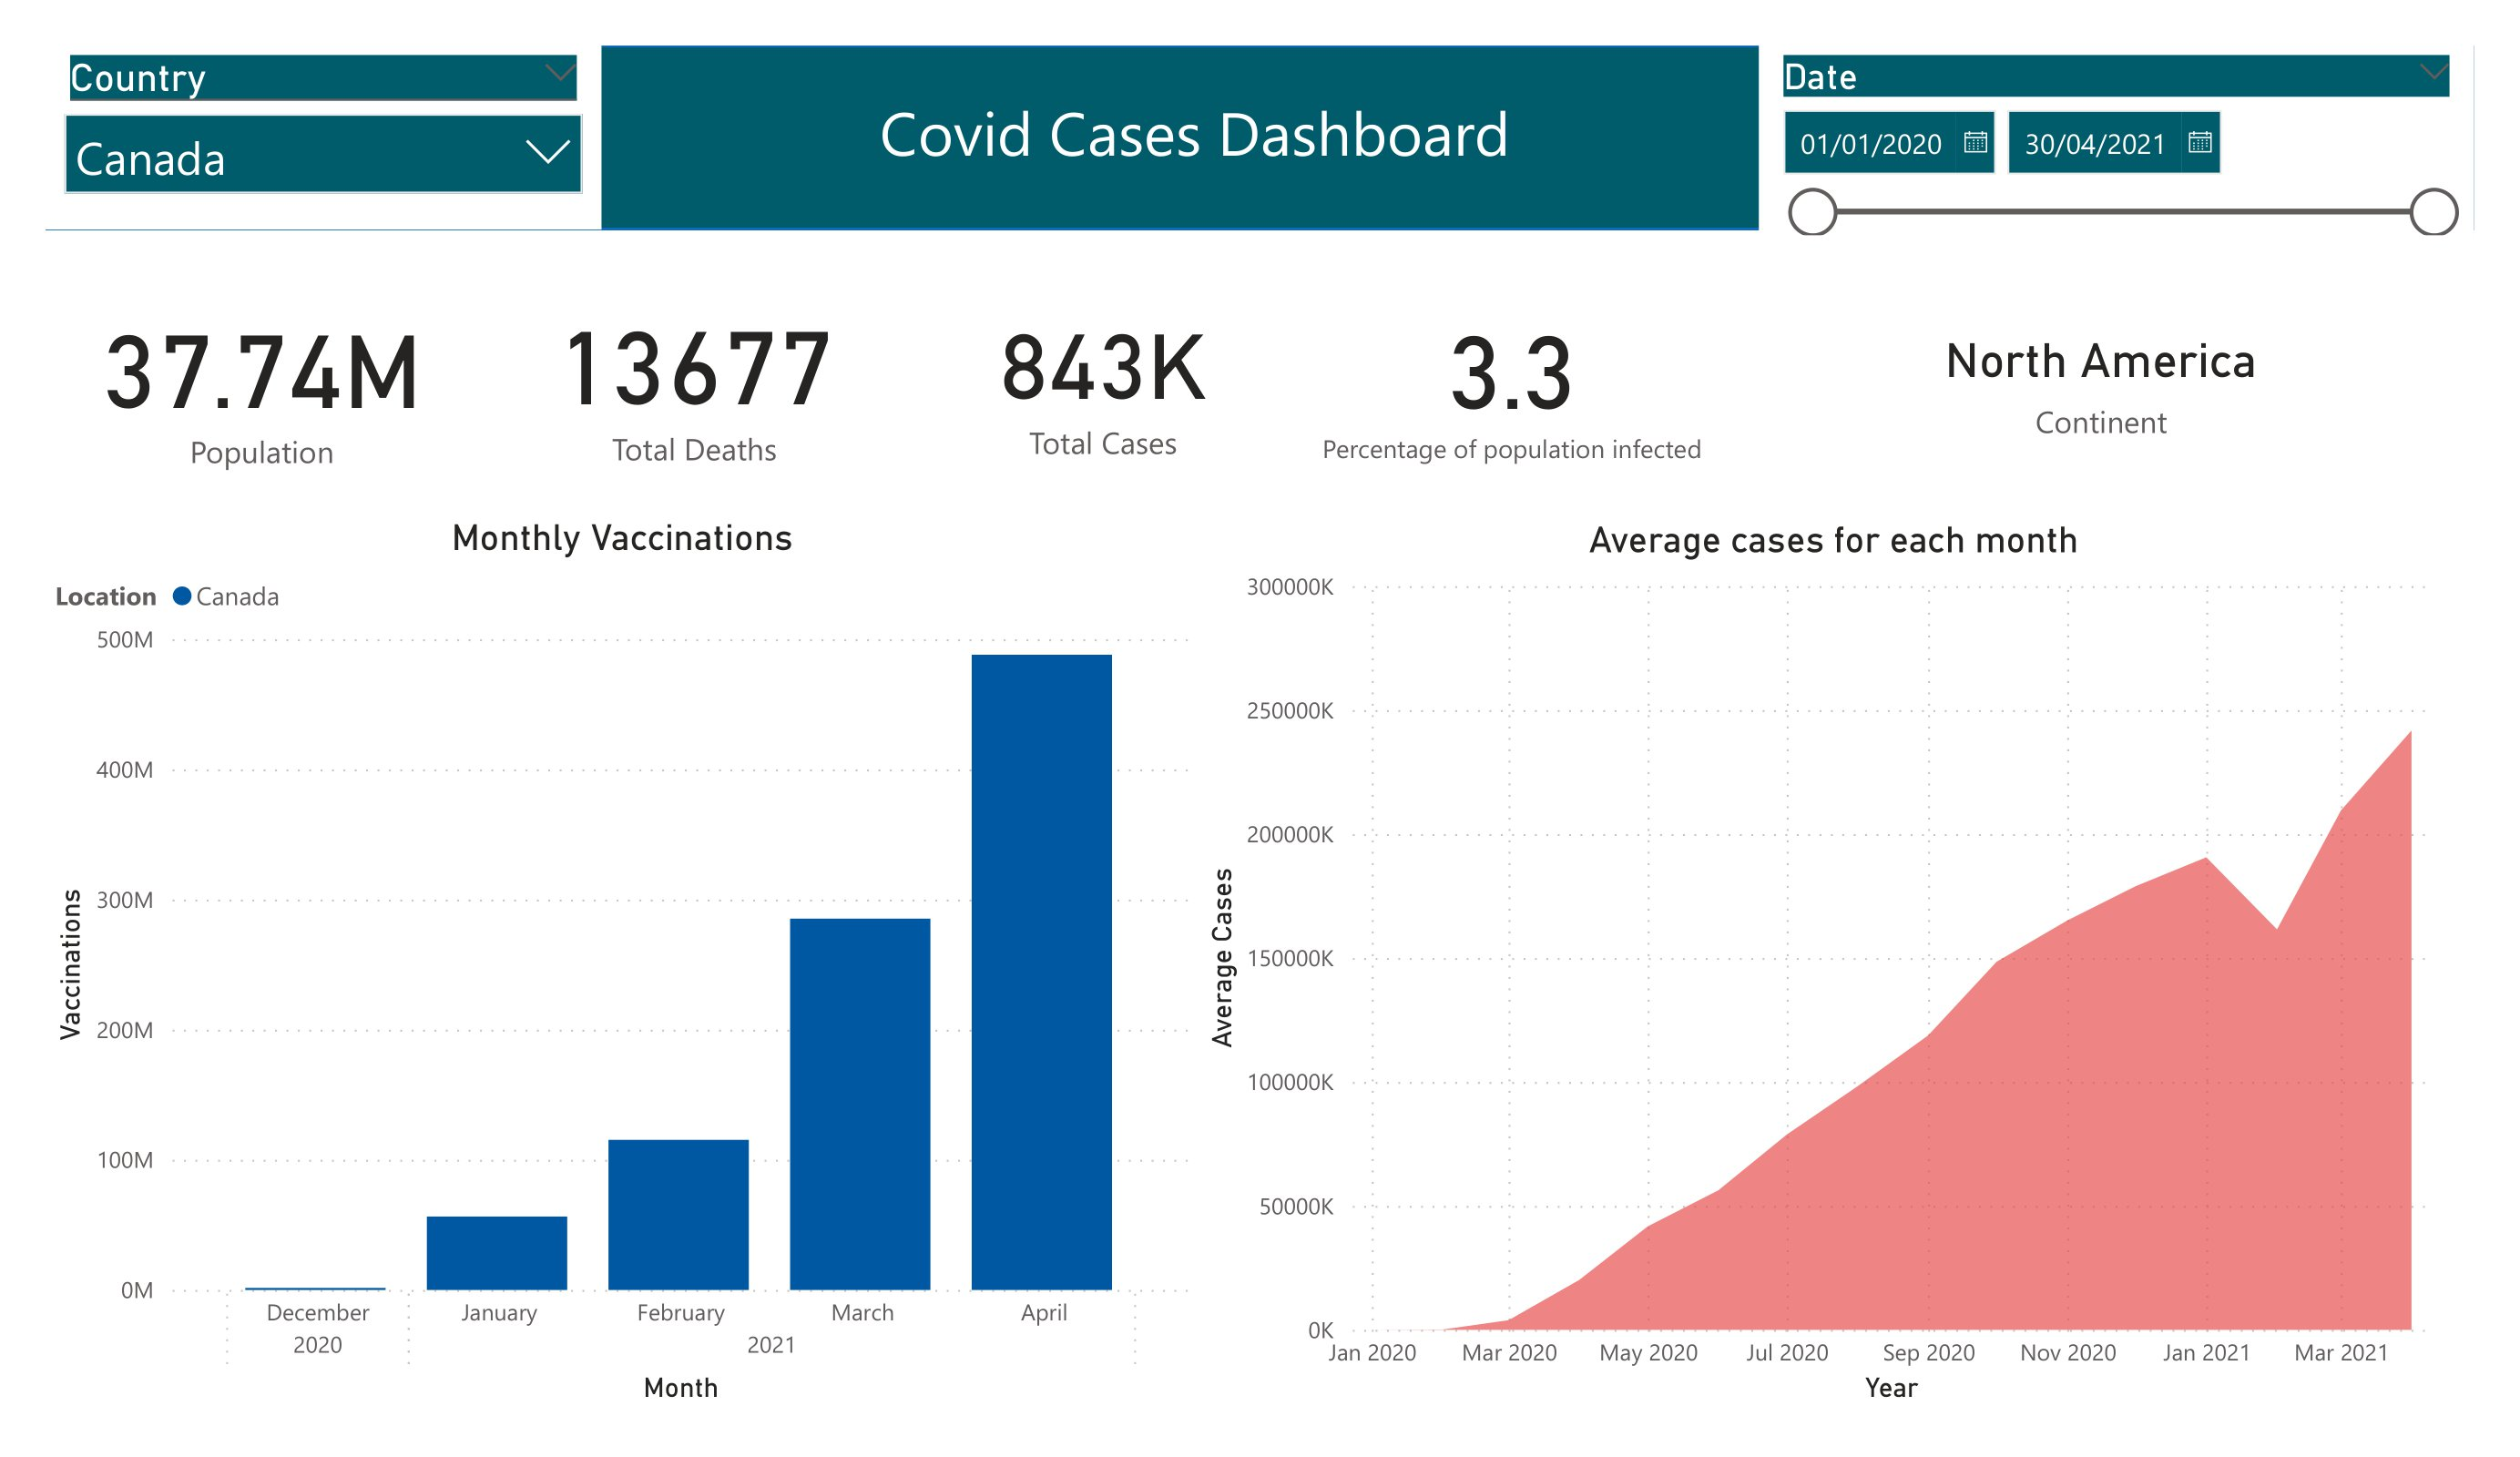

What the dashboard file says about the page in this screenshot:
{"tool":"powerbi","page":{"name":"Dashboard","canvas":[1280,720],"ordinal":0},"visuals":[{"type":"shape","box":[0,0,1279.8,97.1],"z":0},{"type":"areaChart","title":"Average cases for each month","fields":{"Category":["daily.date.Variation.Date Hierarchy.Year","daily.date.Variation.Date Hierarchy.Month"],"Y":["Sum(daily.tests)"]},"box":[606.7,249.2,671.5,470.8],"z":1000},{"type":"slicer","fields":{"Values":["daily.date"]},"box":[902.8,0,377,174.7],"z":2000},{"type":"slicer","fields":{"Values":["covid_location.location"]},"box":[0,0,292.9,97.1],"z":3000},{"type":"card","fields":{"Values":["Min(agg_case_vaccines.total_deaths)"]},"box":[228.1,98.7,228.1,150.5],"z":4000},{"type":"columnChart","title":"Monthly Vaccinations","fields":{"Category":["daily.date.Variation.Date Hierarchy.Year","daily.date.Variation.Date Hierarchy.Month"],"Series":["agg_case_vaccines.location"],"Y":["Sum(daily.vaccinations)"]},"box":[0,247.6,608.4,472.4],"z":5000},{"type":"card","fields":{"Values":["Avg(agg_case_vaccines.total_cases)"]},"box":[456.3,98.7,202.2,150.5],"z":6000},{"type":"card","fields":{"Values":["Sum(covid_location.case_percent_pop)"]},"box":[658.5,100.3,228.1,148.9],"z":7000},{"type":"card","fields":{"Values":["Sum(covid_location.population)"]},"box":[0,100.3,228.1,150.5],"z":8000},{"type":"card","fields":{"Values":["Min(agg_case_vaccines.continent)"]},"box":[886.7,100.3,393.2,150.5],"z":9000},{"type":"textbox","box":[343,17.8,525.8,59.9],"z":10000}]}

Visuals, with their boxes in screenshot pixels (x1, y1, x2, y2):
shape: rect(46, 46, 2474, 229)
"Average cases for each month" areaChart: rect(1197, 518, 2471, 1411)
slicer - daily.date: rect(1759, 46, 2474, 377)
slicer - covid_location.location: rect(46, 46, 601, 229)
card - Min(agg_case_vaccines.total_deaths): rect(478, 233, 912, 518)
"Monthly Vaccinations" columnChart: rect(46, 515, 1200, 1411)
card - Avg(agg_case_vaccines.total_cases): rect(912, 233, 1295, 518)
card - Sum(covid_location.case_percent_pop): rect(1295, 236, 1728, 518)
card - Sum(covid_location.population): rect(46, 236, 478, 522)
card - Min(agg_case_vaccines.continent): rect(1729, 236, 2474, 522)
textbox: rect(697, 79, 1694, 193)
